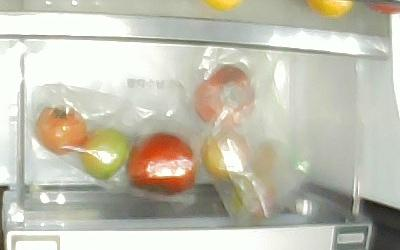tomato_vinyl: (127, 133, 195, 195), (195, 65, 254, 128), (80, 129, 131, 182), (34, 107, 87, 155), (201, 130, 248, 178)
